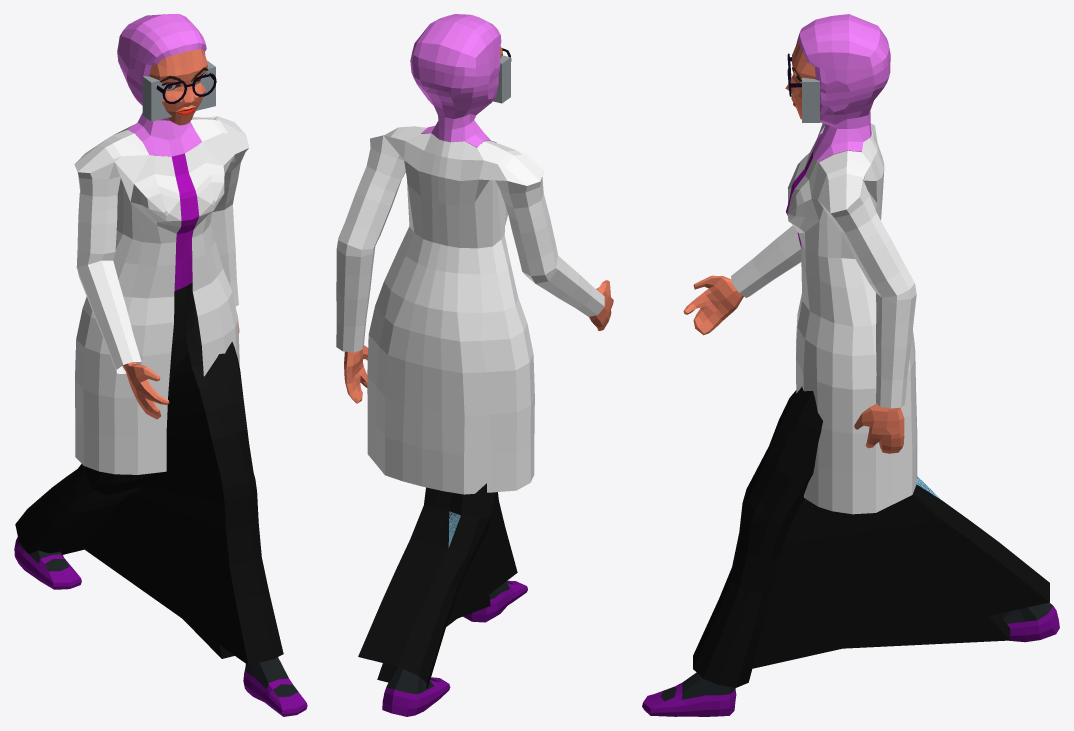
The model's file is ScientistFemale_B_Walk_Mask.fbx.
3 renders of one model, left to right at view 1: azimuth 30°, elevation 25°; view 2: azimuth 150°, elevation 25°; view 3: azimuth 270°, elevation 25°, orthographic. The views are drawn at different scales.
Parts seen in each view (by area): view 1: ScientistFemale_B_Walk_Mask; view 2: ScientistFemale_B_Walk_Mask; view 3: ScientistFemale_B_Walk_Mask.
Part boxes in pixels (left/top/right/bottom): ScientistFemale_B_Walk_Mask: left=14, top=14, right=307, bottom=716; ScientistFemale_B_Walk_Mask: left=336, top=14, right=613, bottom=716; ScientistFemale_B_Walk_Mask: left=642, top=14, right=1059, bottom=716.
Size of the model in its own units: 0.2819 by 0.8973 by 0.5064.
